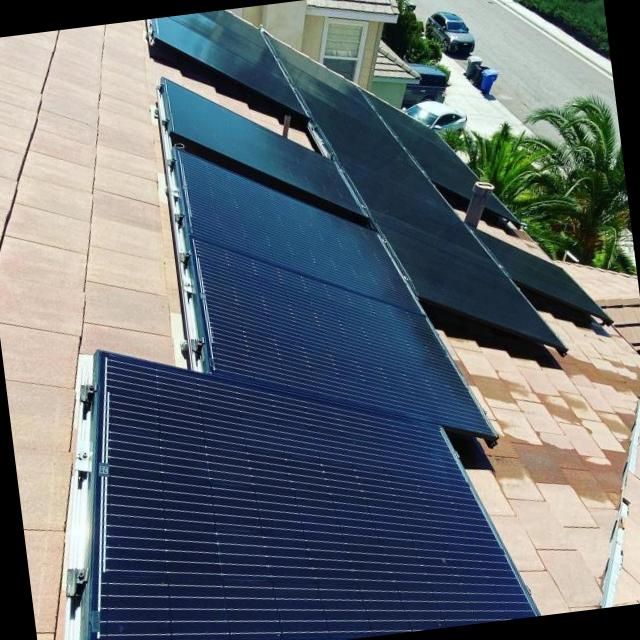no faulty: (97, 365, 533, 640), (196, 241, 497, 433), (274, 44, 483, 250), (184, 154, 422, 306), (370, 208, 563, 344), (171, 88, 365, 220), (361, 92, 509, 215), (151, 9, 304, 107), (476, 225, 610, 313)
